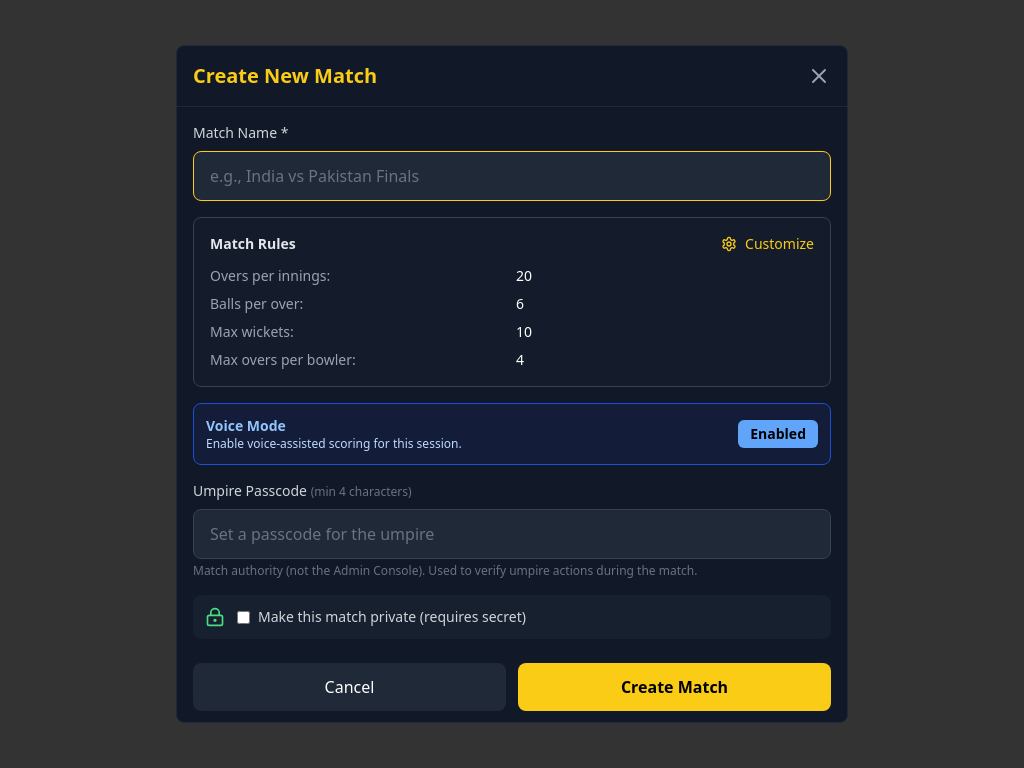
CreateMatchModal › shows loading state while create request is in-flight
Expected: the heading "Create New Match" is shown, [193,62,377,90]
Type "Pending Match" into the field with placeholder "e.g., India vs Pakistan Finals". click: x=512, y=176
box: [193,151,831,201]
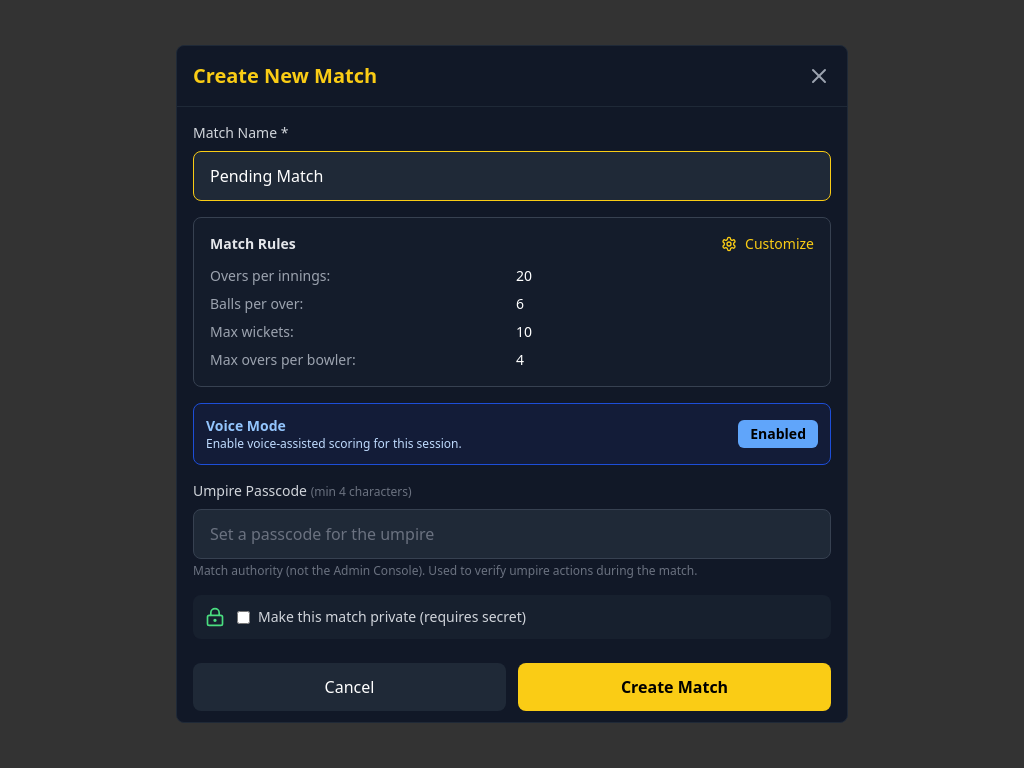
Type "1234" into the password field with placeholder "Set a passcode for the umpire". click: x=512, y=534
box: [193,509,831,559]
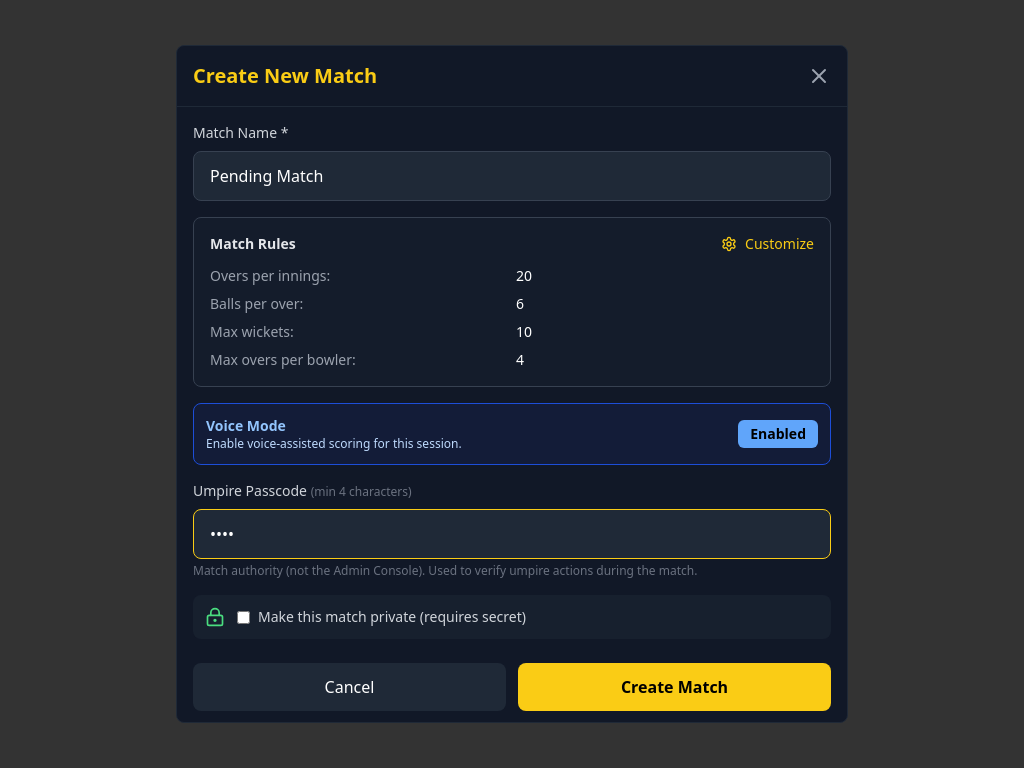
Click the button "Create Match". click: x=674, y=687
box: [518,663,831,711]
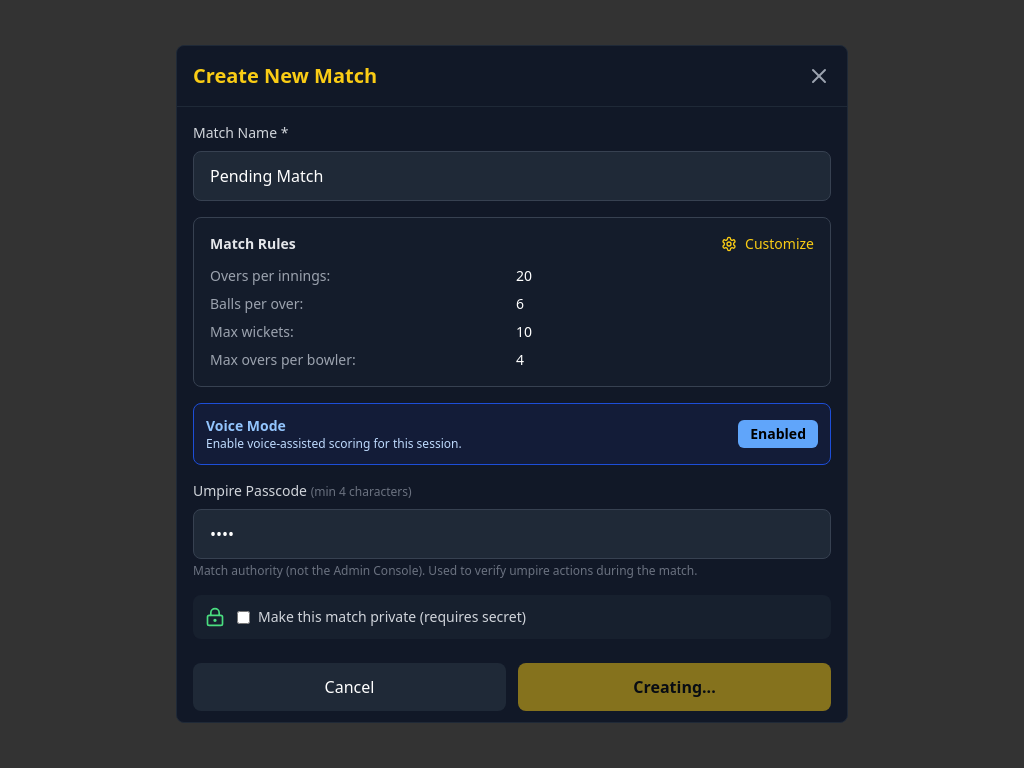
Expected: the button "Cancel" is disabled, [193,663,506,711]
Now the button "Creating..." is disabled, box [518,663,831,711]
